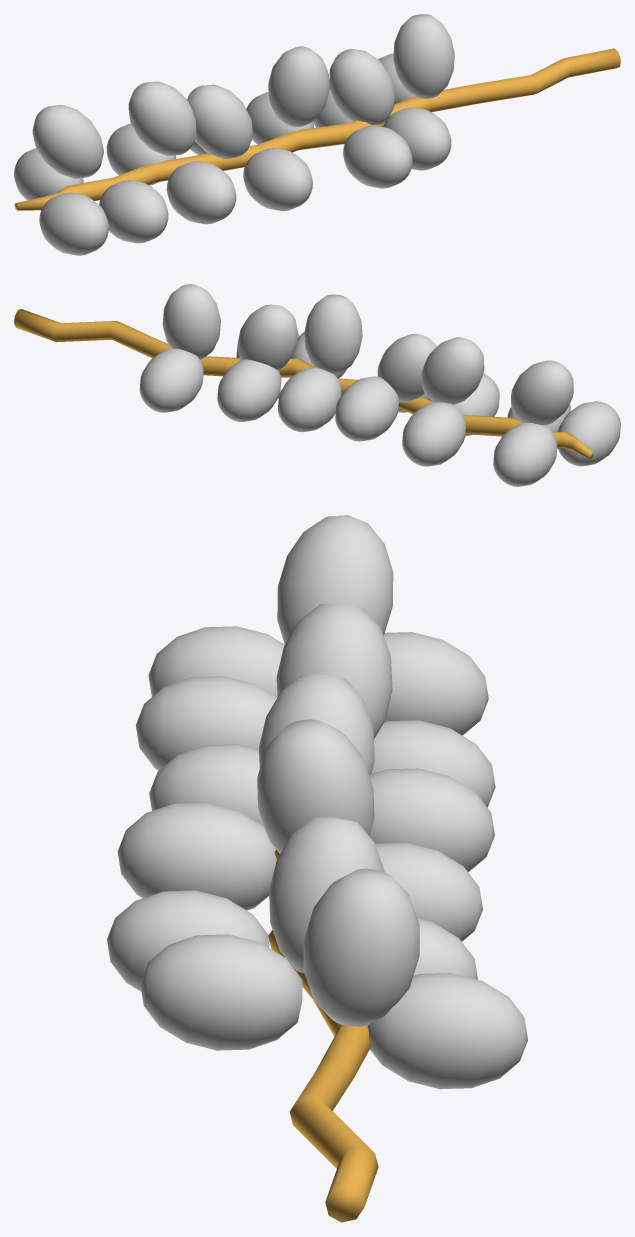
Rendered from taateli.fbx.
3 renders of one model, top to bottom at view 1: azimuth 30°, elevation 25°; view 2: azimuth 150°, elevation 25°; view 3: azimuth 270°, elevation 25°, orthographic. The views are drawn at different scales.
Parts seen in each view (by area): view 1: Sphere.003; view 2: Sphere.003; view 3: Sphere.003.
Part boxes in pixels (<box>): Sphere.003: <box>14,14,620,255</box>; Sphere.003: <box>14,284,620,486</box>; Sphere.003: <box>107,515,527,1222</box>.
Bounding box in the file's own units: 0.1853 × 0.0372 × 0.0592.
